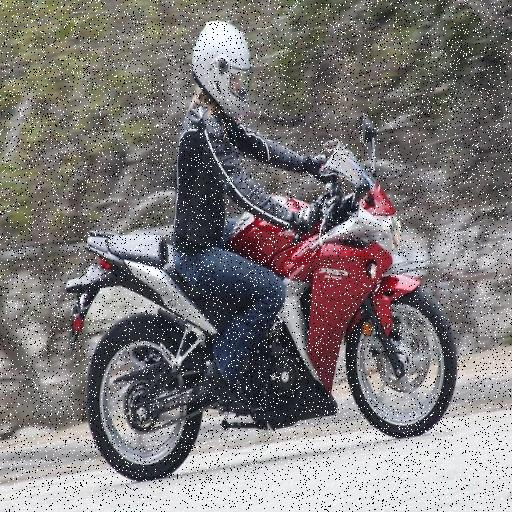Helmet: (182, 20, 257, 123)
Motor: (52, 192, 468, 468)
